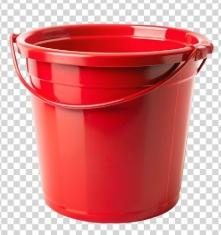SEAU: (0, 15, 221, 235)
